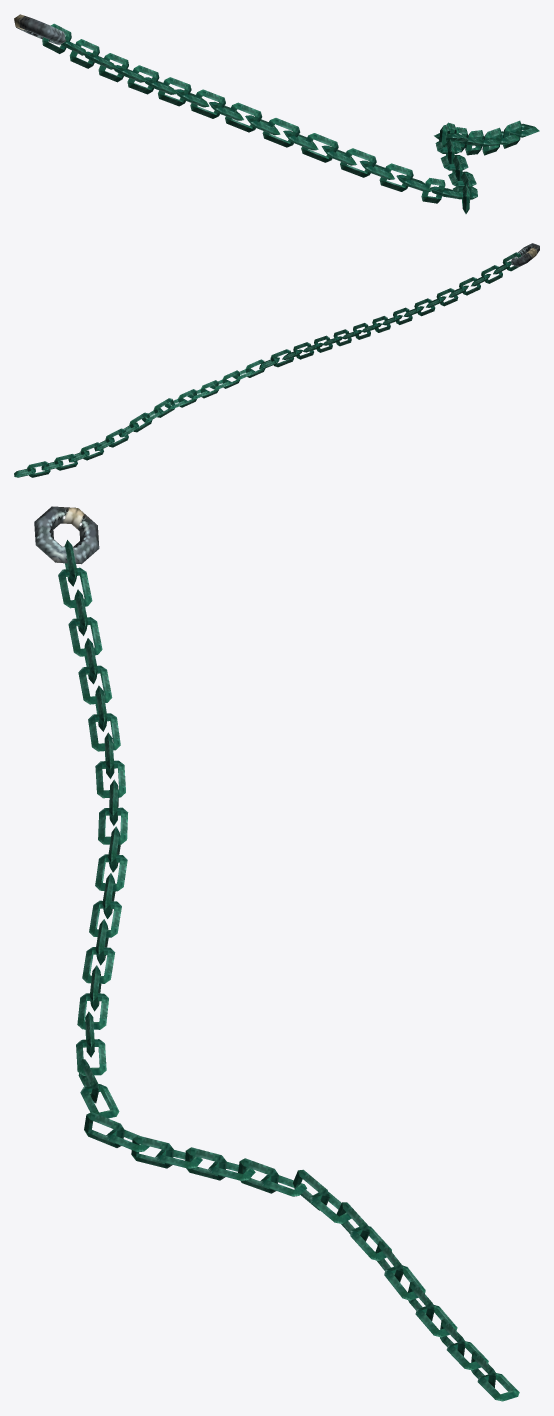
Rendered from 5st_chain_007.fbx.
3 views of the same model, one above another, from view 1: azimuth 30°, elevation 25°; view 2: azimuth 150°, elevation 25°; view 3: azimuth 270°, elevation 25° (orthographic). The views are drawn at different scales.
Visible parts, largest first — view 1: chain007; view 2: chain007; view 3: chain007.
Part boxes in pixels (box(x1,y1,x2,y2)): chain007: box(14, 14, 539, 213); chain007: box(14, 243, 539, 477); chain007: box(34, 506, 519, 1401).
Bounding box in the file's own units: 24.18 × 13.93 × 12.25.
